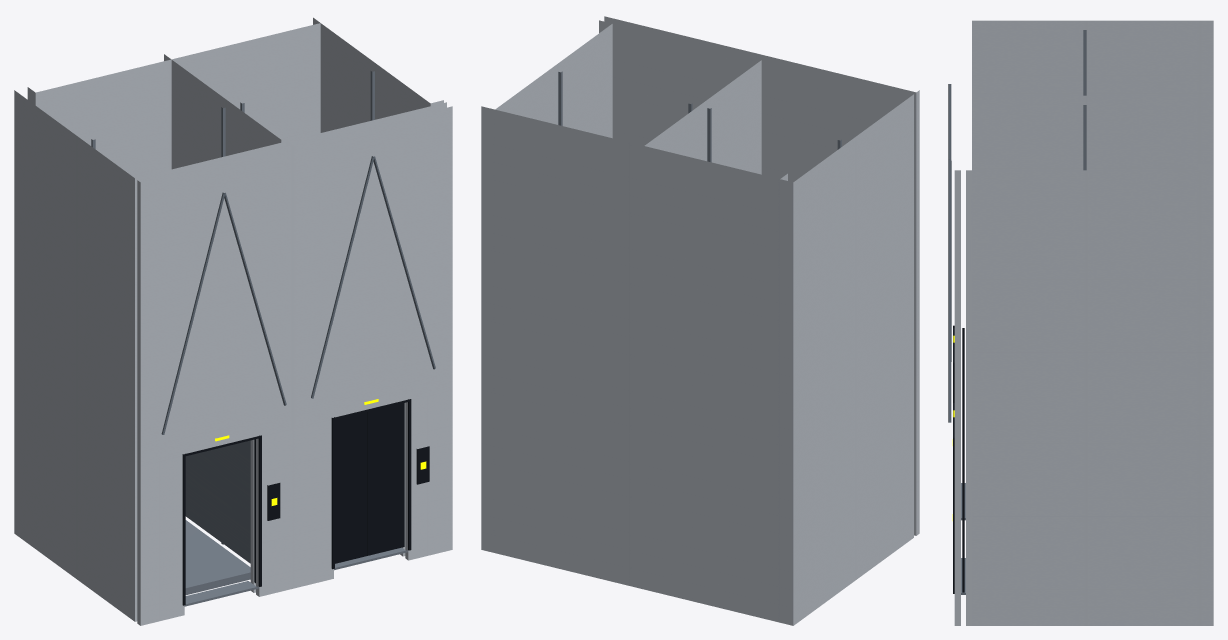
Rendered from v4_lift.glb.
3 views of the same model, side by side, from view 1: azimuth 30°, elevation 25°; view 2: azimuth 150°, elevation 25°; view 3: azimuth 270°, elevation 25° (orthographic). The views are drawn at different scales.
Parts seen in each view (by area): view 1: Door_Wall, Shaft_Walls, Landing_Doors, Lift_Car, Front_Lattice, Door_Jambs, Sills, Call_Panels; view 2: Shaft_Walls, Door_Wall, Guide_Rails; view 3: Shaft_Walls, Door_Wall, Front_Lattice, Landing_Doors, Guide_Rails, Door_Jambs.
Part boxes in pixels (box(x1,y1,x2,y2)): Door_Wall: box(132, 102, 452, 625); Shaft_Walls: box(14, 17, 443, 619); Landing_Doors: box(254, 403, 404, 583); Lift_Car: box(185, 440, 250, 595); Front_Lattice: box(161, 156, 435, 434); Door_Jambs: box(182, 399, 411, 605); Sills: box(184, 547, 408, 606); Call_Panels: box(267, 446, 429, 520); Shaft_Walls: box(481, 24, 910, 625); Door_Wall: box(599, 16, 919, 539); Guide_Rails: box(558, 71, 841, 162); Shaft_Walls: box(972, 20, 1213, 625); Door_Wall: box(954, 170, 972, 625); Front_Lattice: box(948, 84, 951, 422); Landing_Doors: box(962, 328, 964, 592); Guide_Rails: box(1083, 30, 1086, 170); Door_Jambs: box(953, 325, 954, 593).
Bounding box in the file's own units: 4.6 × 6.25 × 3.3.
5 materials, 4 textured.
